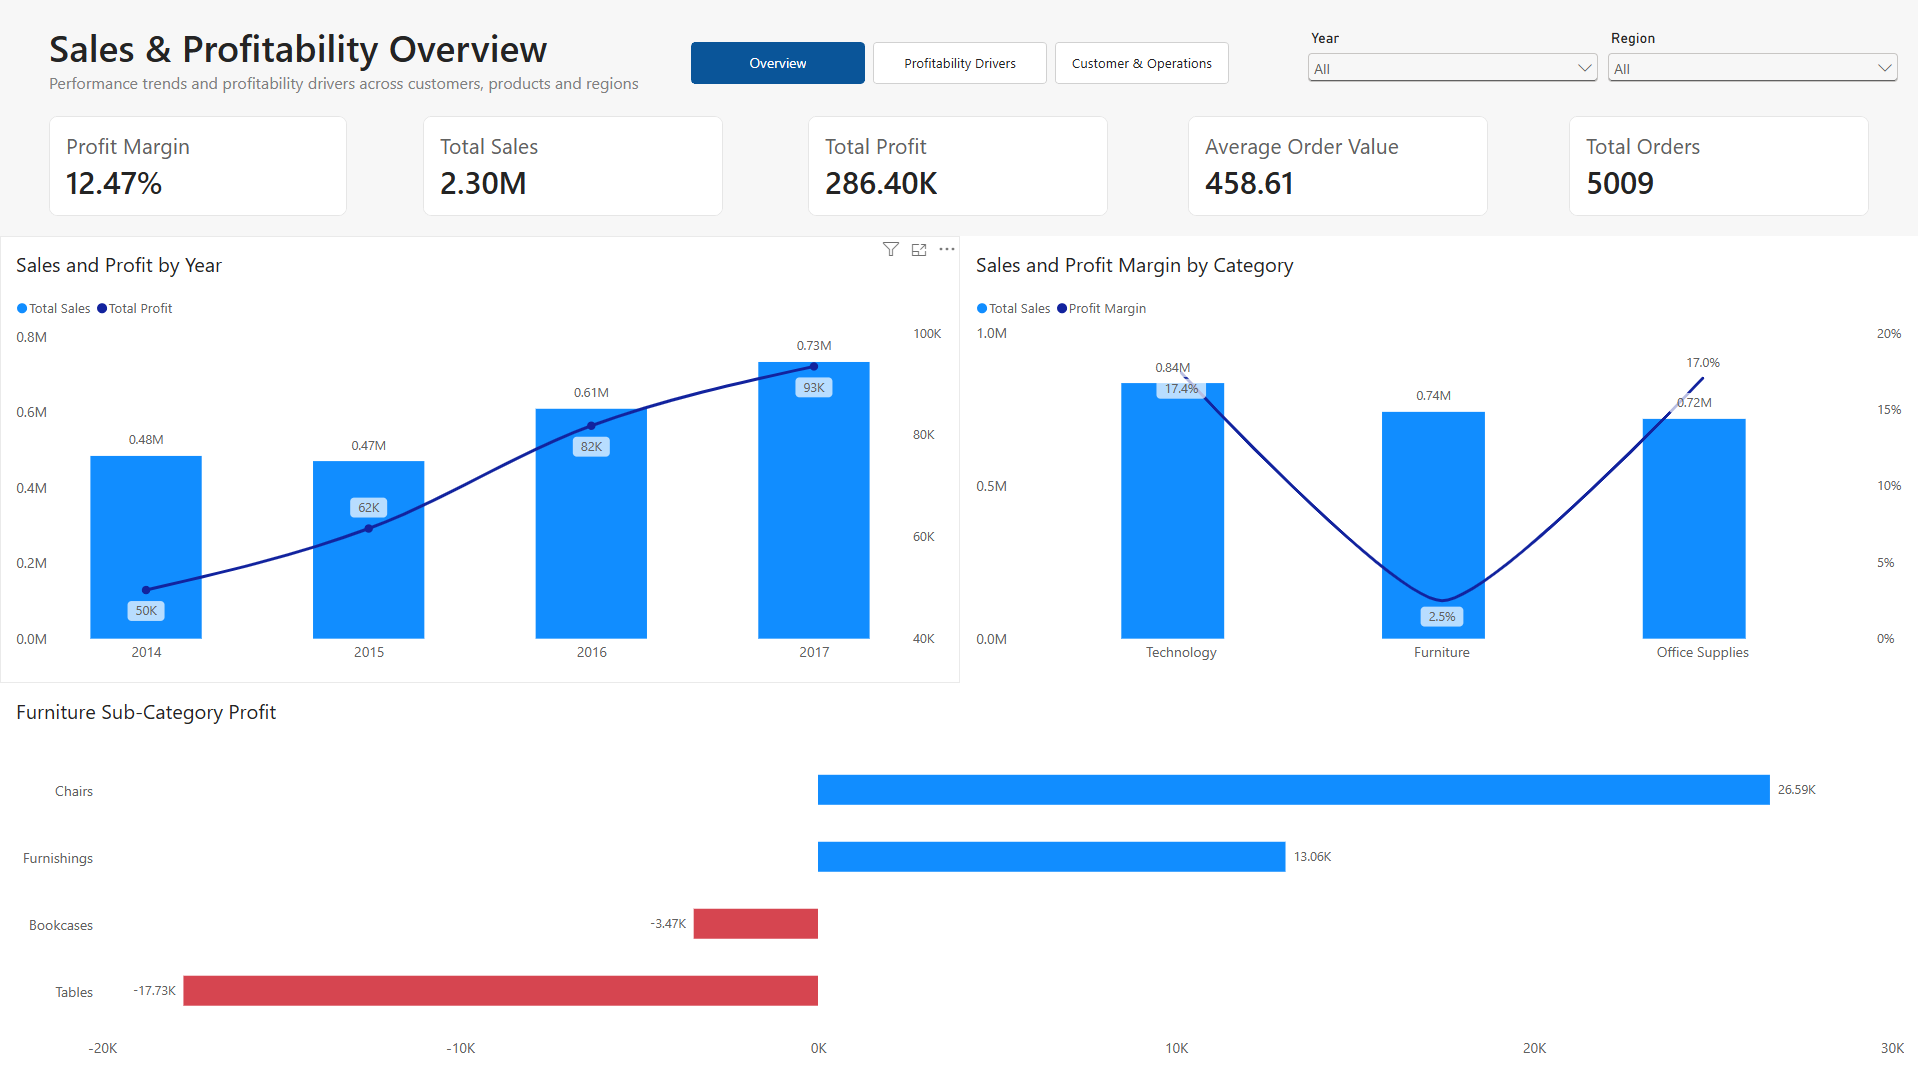

Layout of this report page (visuals, bound fields, positions):
{"tool":"powerbi","page":{"name":"Overview","canvas":[1920,1080],"ordinal":0},"visuals":[{"type":"cardVisual","fields":{"Data":["Sales_Data.Total Sales"]},"box":[422.9,117.1,300,100],"z":0},{"type":"cardVisual","fields":{"Data":["Sales_Data.Total Profit"]},"box":[807.9,117.1,300,100],"z":1000},{"type":"cardVisual","fields":{"Data":["Sales_Data.Profit Margin"]},"box":[48.6,117.1,298.6,100],"z":2000},{"type":"cardVisual","fields":{"Data":["Sales_Data.Total Orders"]},"box":[1568.6,117.1,300,100],"z":3000},{"type":"cardVisual","fields":{"Data":["Sales_Data.Average Order Value"]},"box":[1188.2,117.1,300,100],"z":4000},{"type":"lineClusteredColumnComboChart","title":"Sales and Profit by Year","fields":{"Category":["Date_Table.Year"],"Y":["Sales_Data.Total Sales"],"Y2":["Sales_Data.Total Profit"]},"box":[0,237.1,960,447.1],"z":5000},{"type":"lineClusteredColumnComboChart","title":"Sales and Profit Margin by Category","fields":{"Category":["Sales_Data.Category"],"Y":["Sales_Data.Total Sales"],"Y2":["Sales_Data.Profit Margin"]},"box":[960,237.1,960,447.1],"z":6000},{"type":"clusteredBarChart","title":"Furniture Sub-Category Profit","fields":{"Category":["Sales_Data.Sub_Category"],"Y":["Sales_Data.Total Profit"]},"box":[0,684,1920,396],"z":7000},{"type":"textbox","box":[49,23,507,50],"z":8000},{"type":"textbox","box":[49,73,602,24],"z":9000},{"type":"slicer","fields":{"Values":["Date_Table.Year"]},"box":[1303,31,300,65.7],"z":10000},{"type":"slicer","fields":{"Values":["Sales_Data.Region"]},"box":[1603,31,300,66],"z":11000},{"type":"pageNavigator","box":[691,43,538,42],"z":12000}]}

Visuals, with their boxes in screenshot pixels (x1, y1, x2, y2), scaled from the page's 1920x1080 canvas onto the 1918x1079 screenshot:
cardVisual - Sales_Data.Total Sales: left=422, top=117, right=722, bottom=217
cardVisual - Sales_Data.Total Profit: left=807, top=117, right=1107, bottom=217
cardVisual - Sales_Data.Profit Margin: left=49, top=117, right=347, bottom=217
cardVisual - Sales_Data.Total Orders: left=1567, top=117, right=1867, bottom=217
cardVisual - Sales_Data.Average Order Value: left=1187, top=117, right=1487, bottom=217
"Sales and Profit by Year" lineClusteredColumnComboChart: left=0, top=237, right=959, bottom=684
"Sales and Profit Margin by Category" lineClusteredColumnComboChart: left=959, top=237, right=1917, bottom=684
"Furniture Sub-Category Profit" clusteredBarChart: left=0, top=683, right=1917, bottom=1078
textbox: left=49, top=23, right=555, bottom=73
textbox: left=49, top=73, right=650, bottom=97
slicer - Date_Table.Year: left=1302, top=31, right=1601, bottom=97
slicer - Sales_Data.Region: left=1601, top=31, right=1901, bottom=97
pageNavigator: left=690, top=43, right=1228, bottom=85
